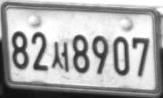0: (111, 35, 130, 75)
2: (30, 31, 49, 71)
7: (131, 37, 149, 77)
8: (71, 33, 90, 74), (10, 30, 29, 70)
9: (91, 34, 109, 74)
서: (51, 41, 69, 72)
